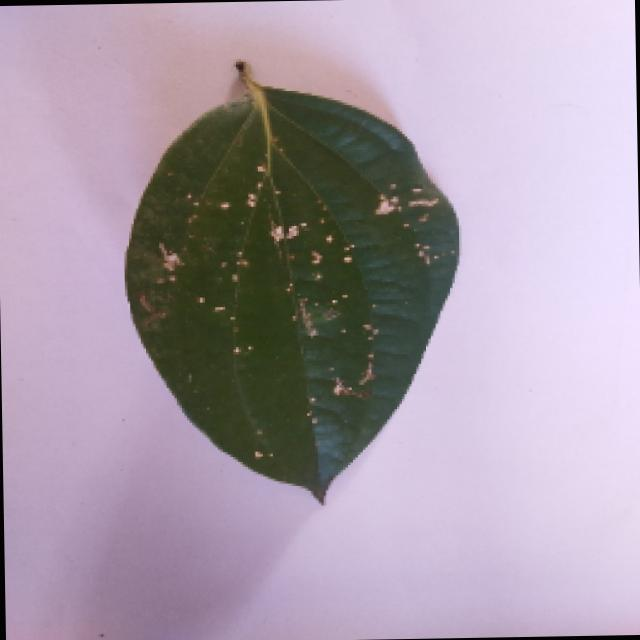pollu-disease: (100, 48, 473, 514)
